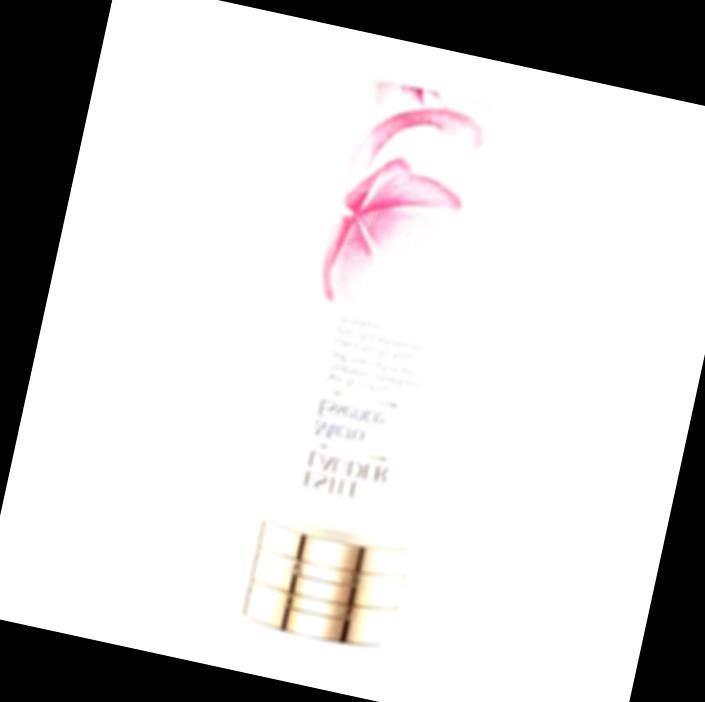cosmetic: (248, 76, 505, 648)
